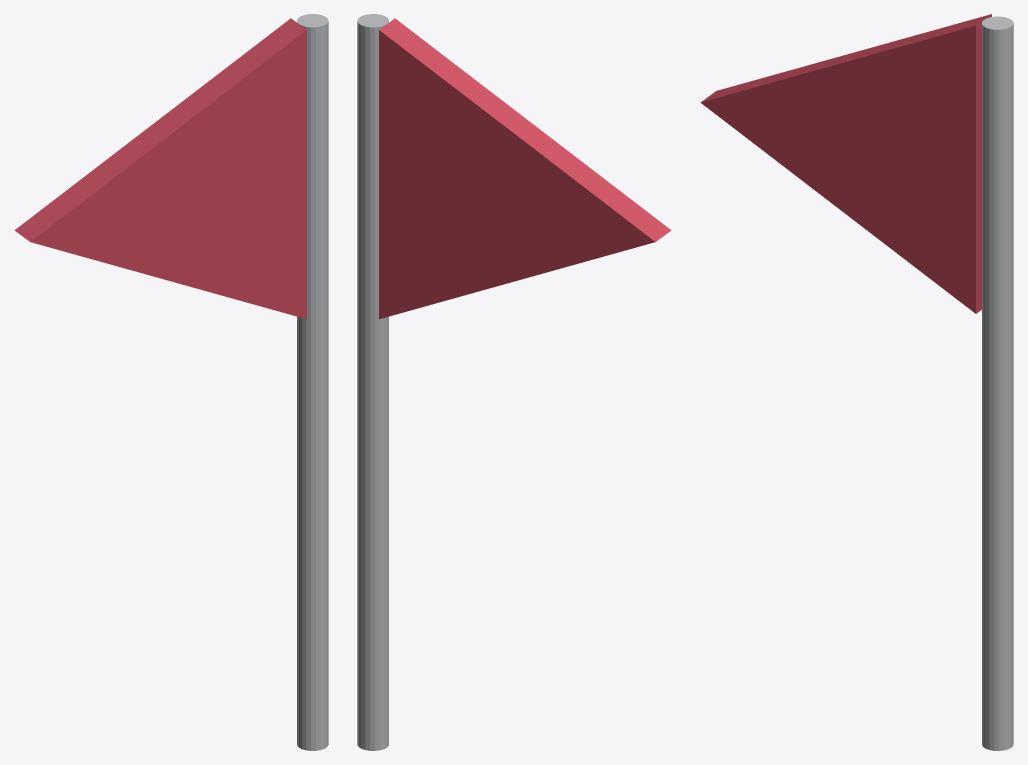
The model's file is flag.glb.
The picture shows the model from 3 angles, left to right: view 1: azimuth 30°, elevation 25°; view 2: azimuth 150°, elevation 25°; view 3: azimuth 330°, elevation 25°; orthographic projection.
Parts seen in each view (by area): view 1: Mesh_Mesh_head_geo.001_lambert2SG.001; view 2: Mesh_Mesh_head_geo.001_lambert2SG.001; view 3: Mesh_Mesh_head_geo.001_lambert2SG.001.
Part boxes in pixels (box(x1,y1,x2,y2)): Mesh_Mesh_head_geo.001_lambert2SG.001: box(14, 14, 328, 750); Mesh_Mesh_head_geo.001_lambert2SG.001: box(357, 14, 671, 750); Mesh_Mesh_head_geo.001_lambert2SG.001: box(700, 14, 1013, 750).
Size of the model in its own units: 22 by 50 by 2.
